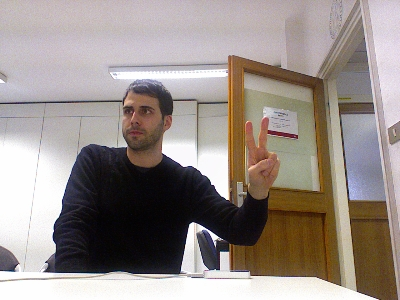剪刀: (243, 116, 280, 193)
